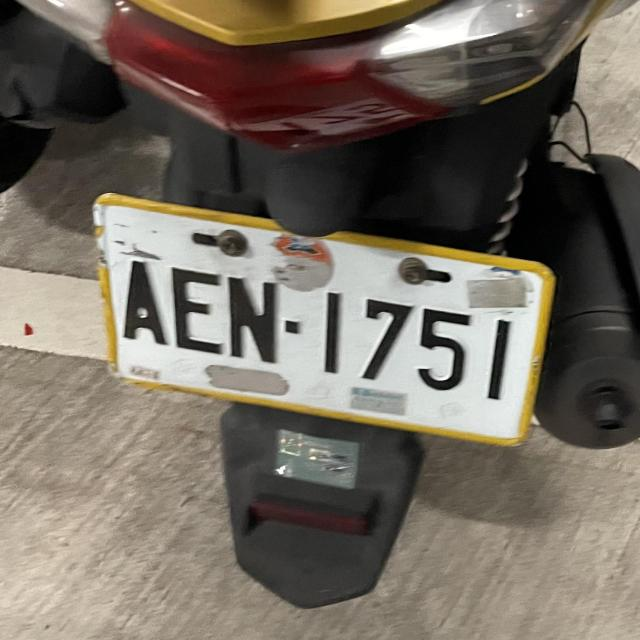W: (90, 193, 555, 454)
